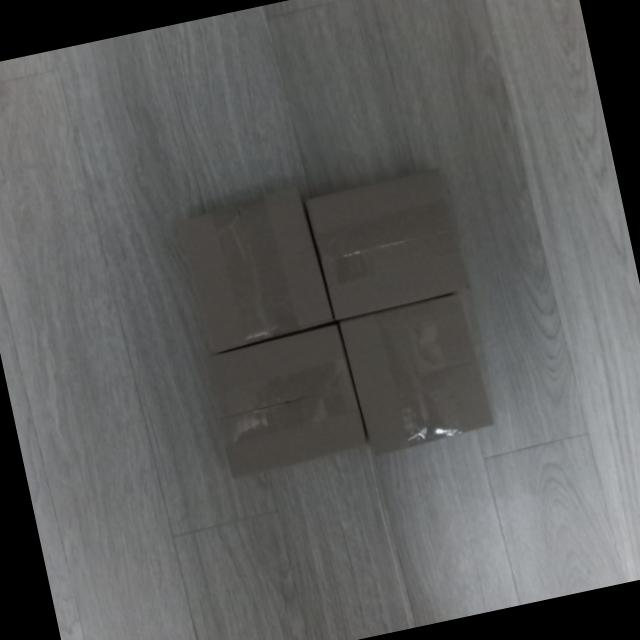box: (334, 288, 504, 462), (196, 322, 370, 486), (178, 188, 338, 354), (304, 164, 471, 322)
